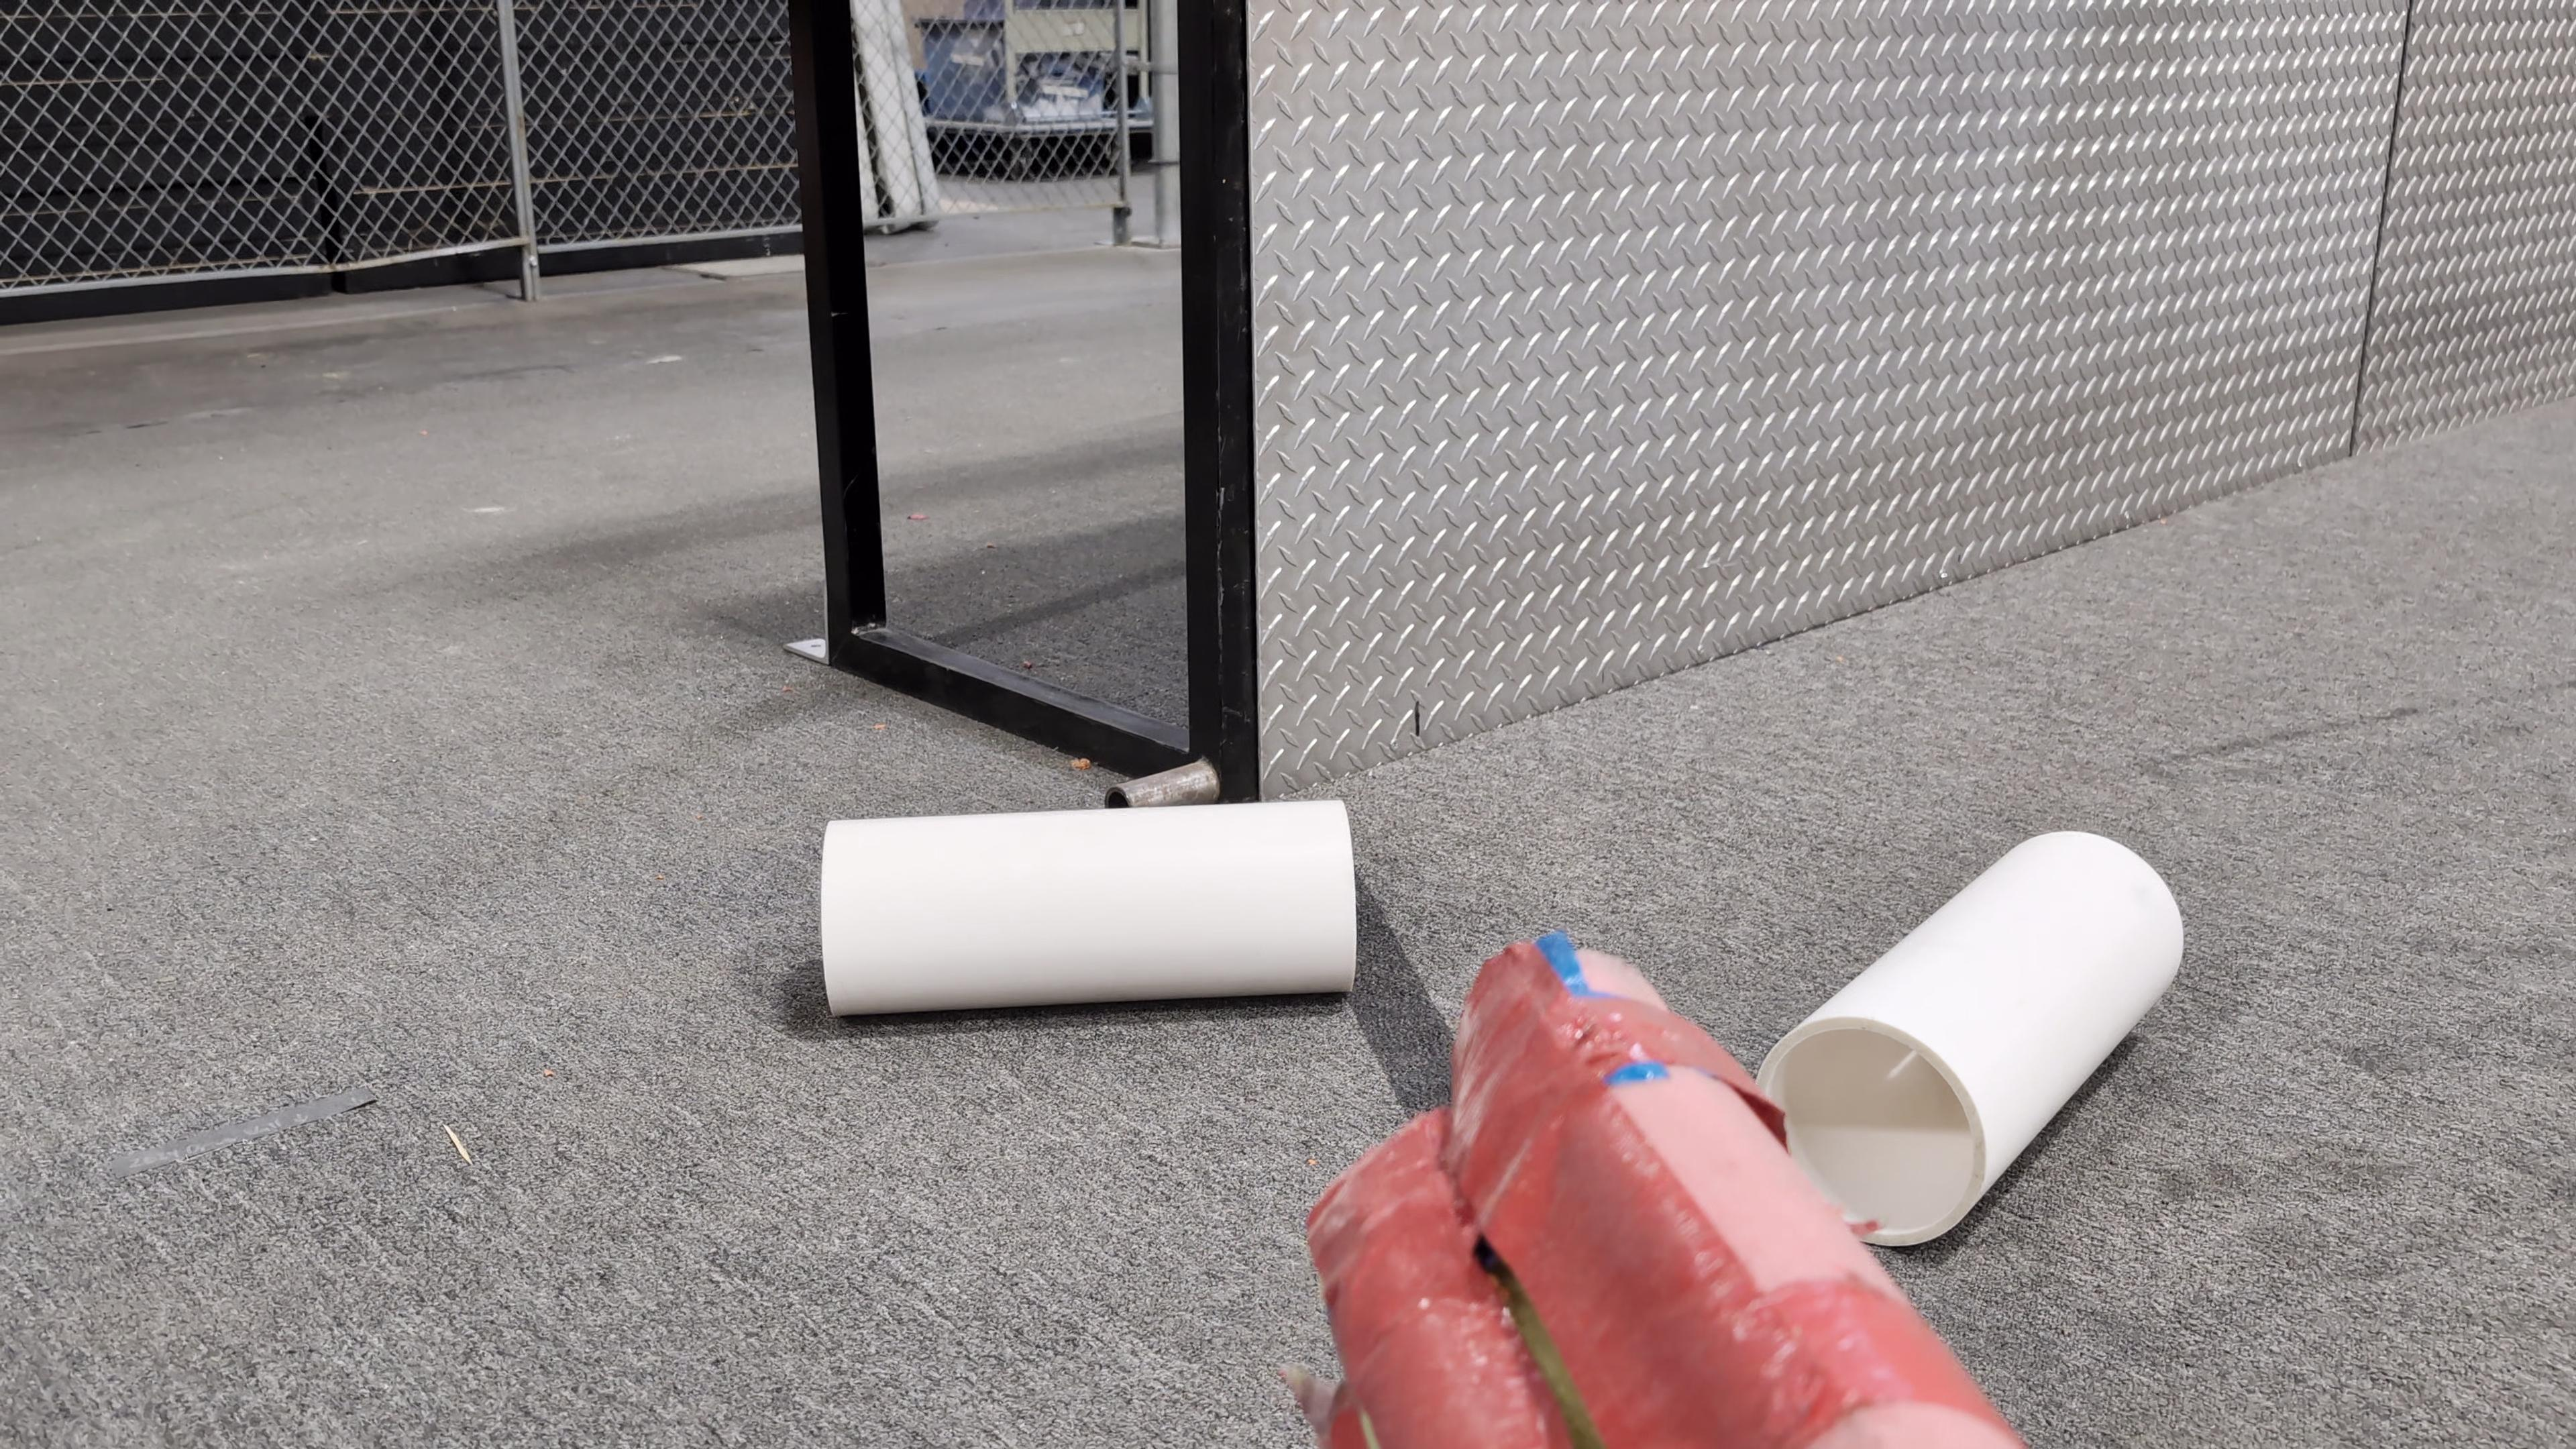coral: (1762, 828, 2187, 1236), (817, 792, 1360, 1015)
